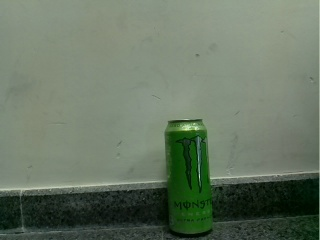botella plastico: (164, 118, 214, 236)
